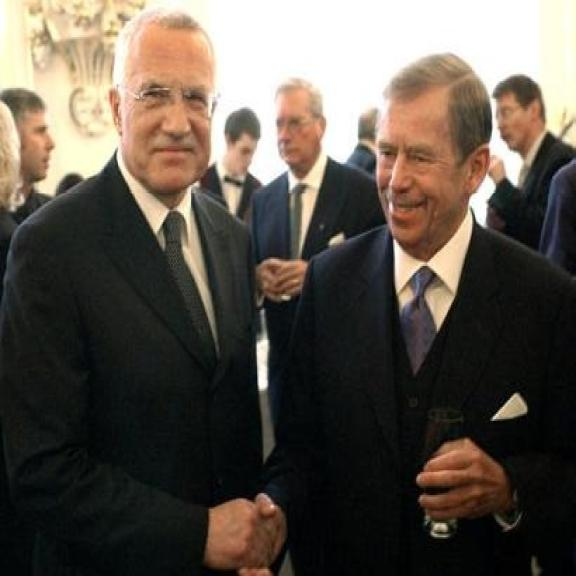face: (106, 27, 222, 191), (379, 93, 492, 255), (276, 94, 325, 168), (495, 93, 549, 156), (28, 102, 59, 187), (223, 118, 259, 181)
